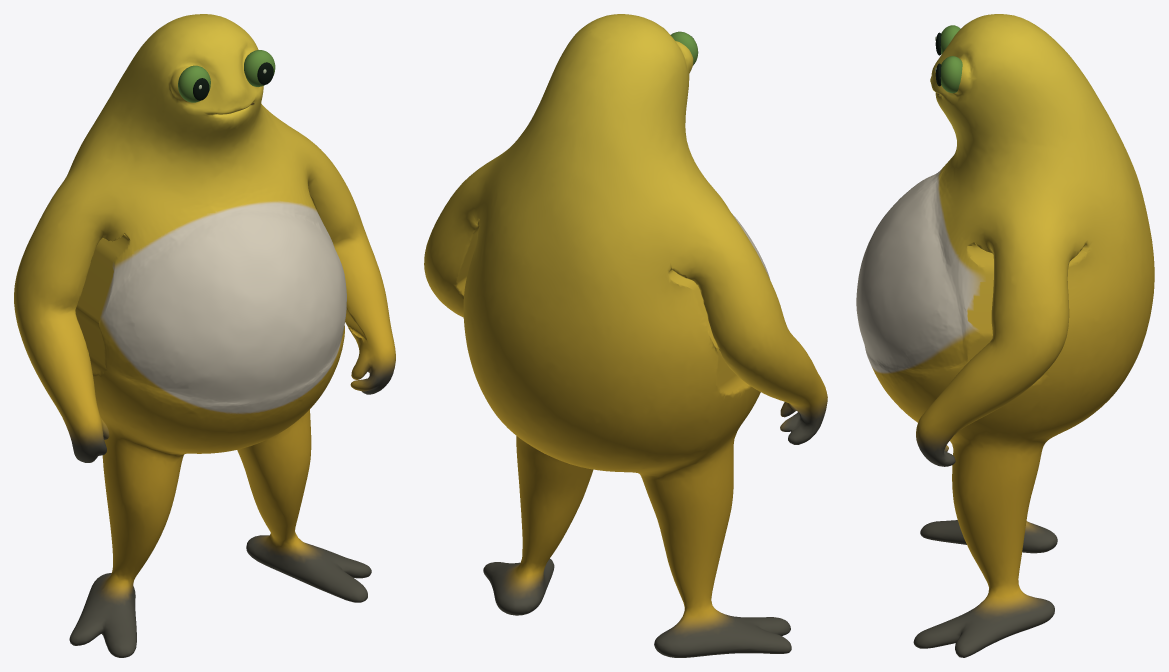
File: naiwa-h25-articulated.glb
The picture shows the model from 3 angles, left to right: view 1: azimuth 30°, elevation 25°; view 2: azimuth 150°, elevation 25°; view 3: azimuth 270°, elevation 25°; orthographic projection. The views are drawn at different scales.
Visible parts, largest first — view 1: Naiwa; view 2: Naiwa; view 3: Naiwa.
Boxes of the visible parts, box(x1,y1,x2,y2) form: Naiwa: box(14, 14, 395, 657); Naiwa: box(424, 14, 827, 657); Naiwa: box(856, 14, 1154, 657).
Bounding box in the file's own units: 0.6173 × 1 × 0.474.
